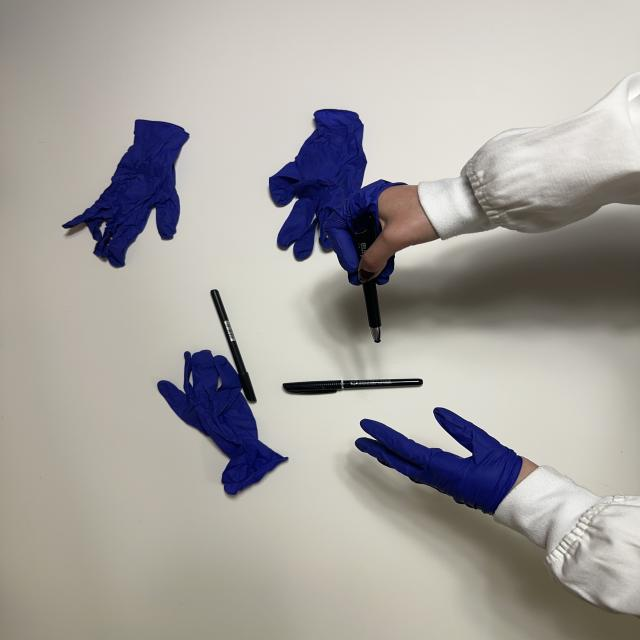glove_partial: (352, 404, 544, 516), (326, 178, 444, 286)
